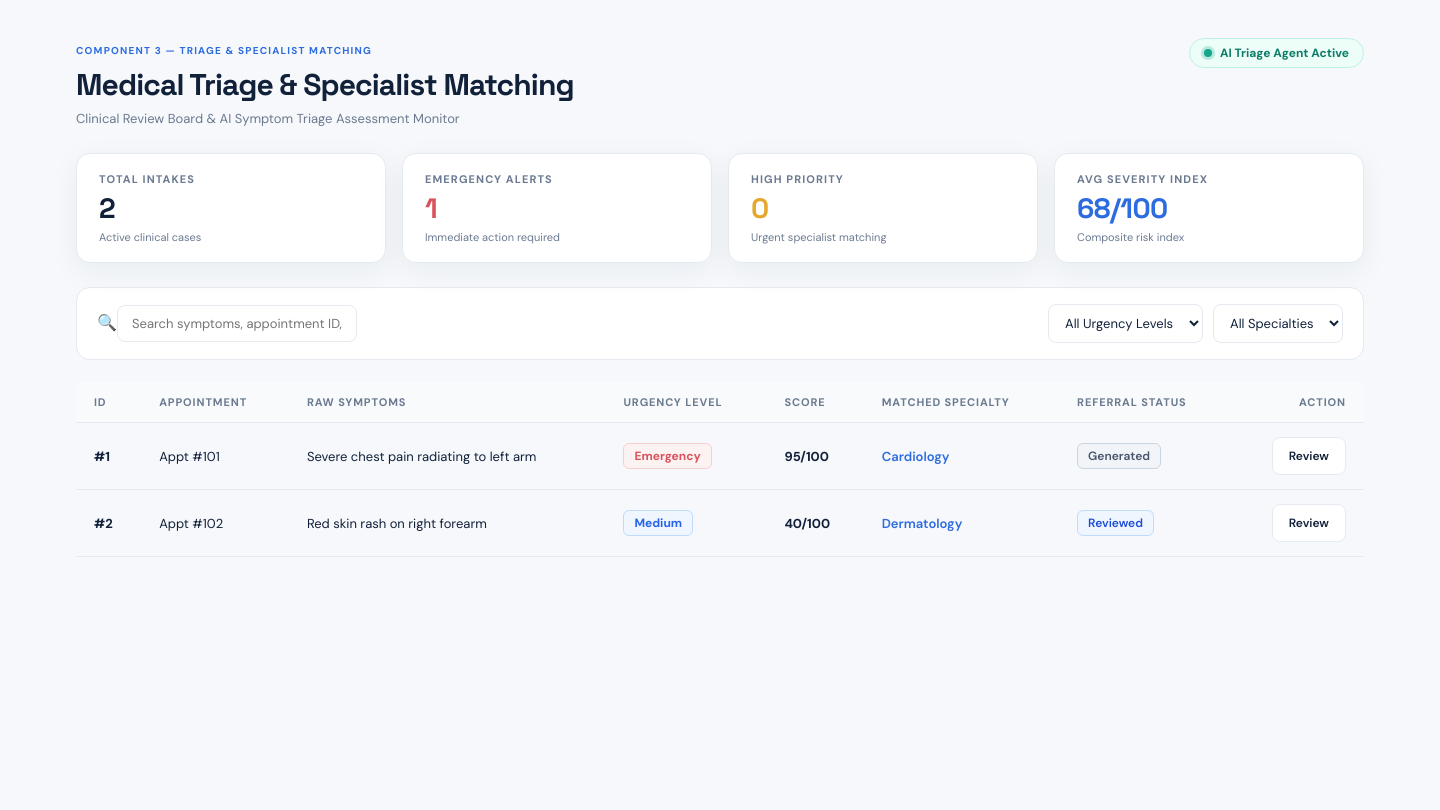
Test case: ClinicalReviewView › opens TriageDetailModal when Review button is clicked
Expected: the text "Severe chest pain radiating to left arm" is shown, [289,422,605,490]
Click the button "Review" in the row of "Appt #101". click: (1309, 456)
box: [1272,437,1346,475]
(page scrolled)
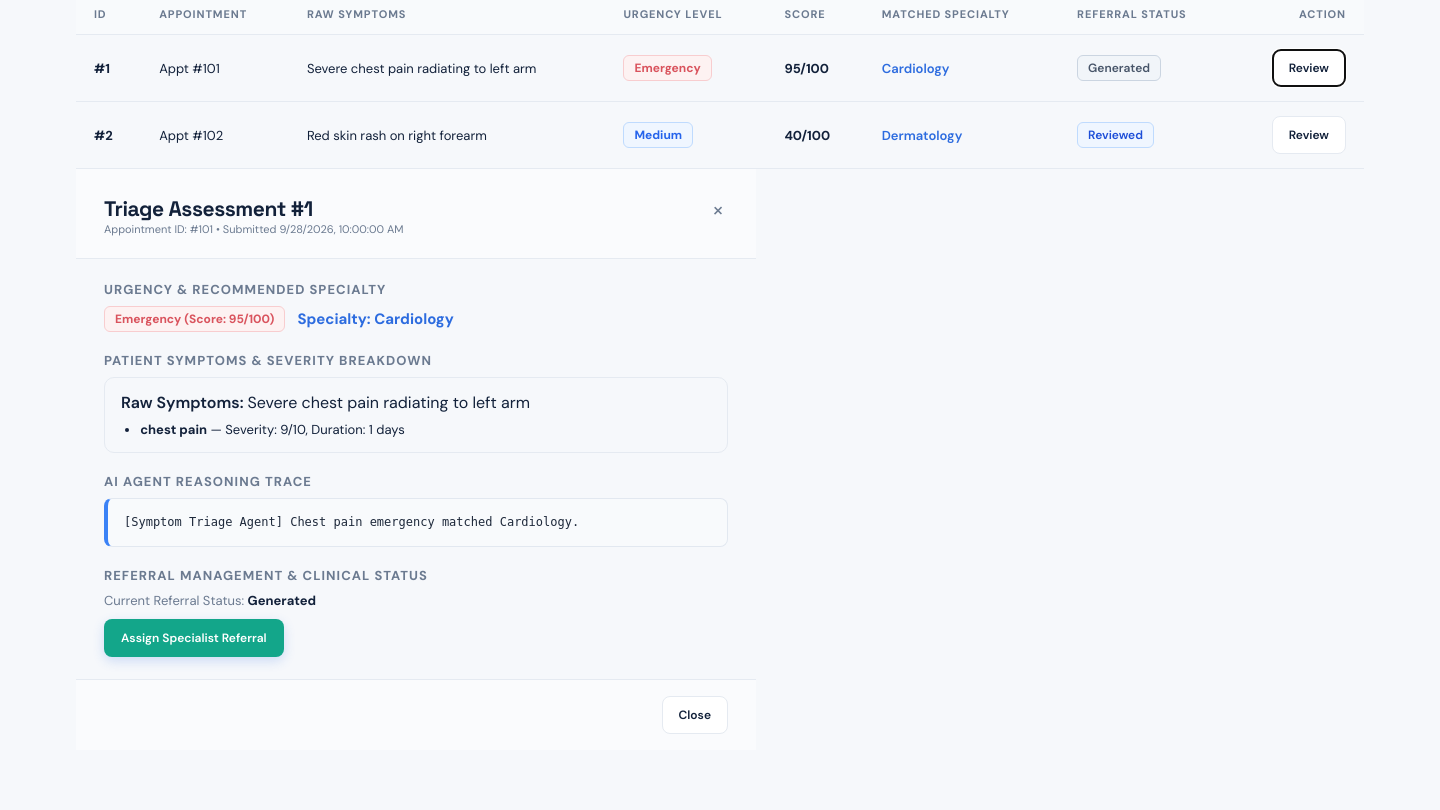
Expected: the heading "Triage Assessment #1" is shown, [104,195,313,222]
Expected: the text "[Symptom Triage Agent] Chest pain emergency matched Cardiology." is shown, [104,498,728,547]
